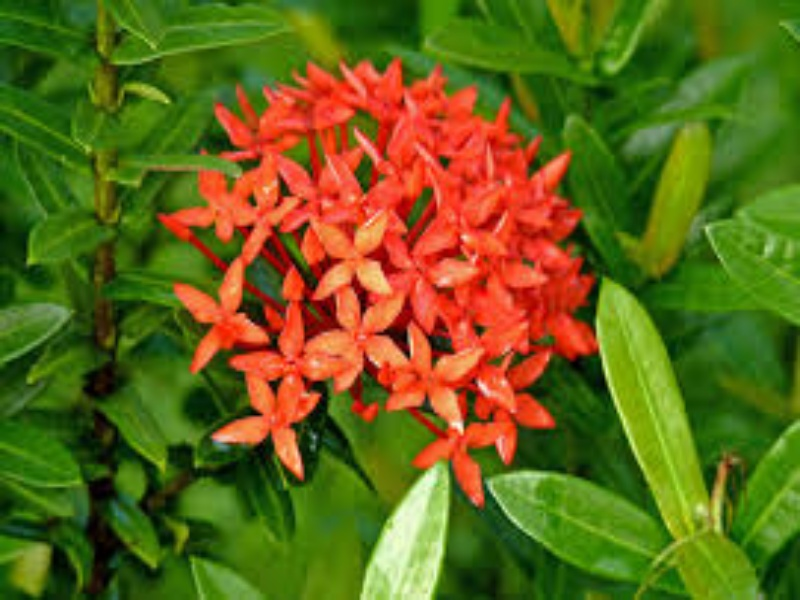Ixora: (152, 25, 622, 519)
